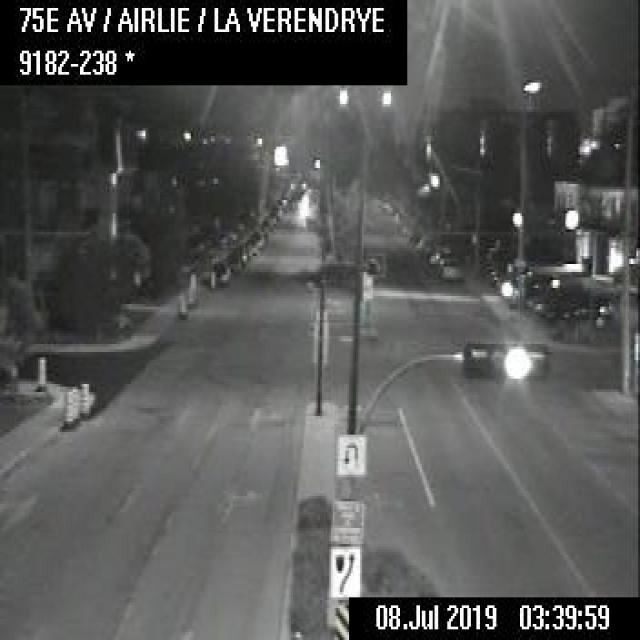construction: (185, 270, 198, 305), (78, 380, 88, 417), (62, 389, 72, 424), (36, 354, 46, 386), (70, 384, 78, 421), (175, 290, 186, 315), (207, 267, 215, 288)
vehicle: (550, 298, 612, 327), (438, 260, 462, 280), (428, 247, 450, 266), (210, 262, 228, 283), (223, 252, 240, 272)
